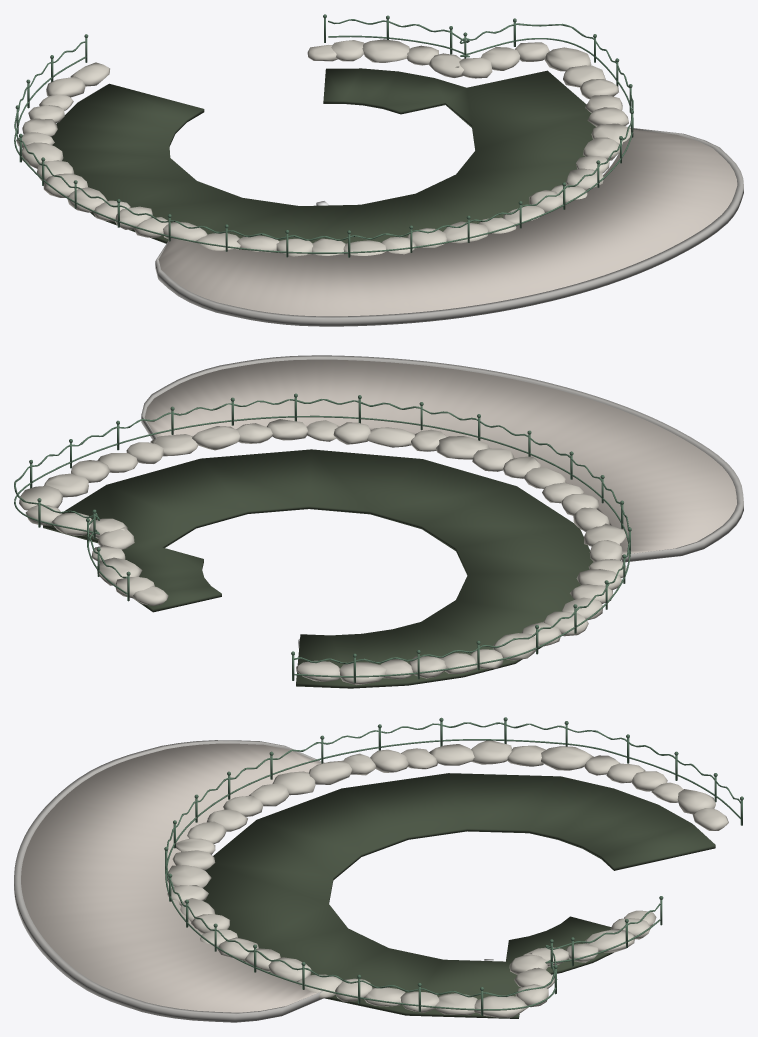
Rendered from Langnek_omgeving.fbx.
3 renders of one model, top to bottom at view 1: azimuth 30°, elevation 25°; view 2: azimuth 150°, elevation 25°; view 3: azimuth 270°, elevation 25°, orthographic. The views are drawn at different scales.
Visible parts, largest first — view 1: static__MAT_water_0, static__MAT_klinker_0, static__MAT_randsteen_0, static__MAT_band_0, static__MAT_hek_0; view 2: static__MAT_water_0, static__MAT_klinker_0, static__MAT_randsteen_0, static__MAT_hek_0, static__MAT_band_0; view 3: static__MAT_water_0, static__MAT_klinker_0, static__MAT_randsteen_0, static__MAT_hek_0, static__MAT_band_0.
Part boxes in pixels (<box>): static__MAT_water_0: <box>51,68,595,252</box>; static__MAT_klinker_0: <box>158,129,737,316</box>; static__MAT_randsteen_0: <box>16,39,633,256</box>; static__MAT_band_0: <box>155,127,743,326</box>; static__MAT_hek_0: <box>14,14,633,257</box>; static__MAT_water_0: <box>43,449,593,688</box>; static__MAT_klinker_0: <box>144,359,736,560</box>; static__MAT_randsteen_0: <box>19,419,626,684</box>; static__MAT_hek_0: <box>14,393,631,682</box>; static__MAT_band_0: <box>141,355,743,562</box>; static__MAT_water_0: <box>203,773,715,1018</box>; static__MAT_klinker_0: <box>21,743,321,1012</box>; static__MAT_randsteen_0: <box>167,740,728,1017</box>; static__MAT_hek_0: <box>164,717,743,1016</box>; static__MAT_band_0: <box>14,740,324,1022</box>.
Bounding box in the file's own units: 14.08 × 2.79 × 15.79.
